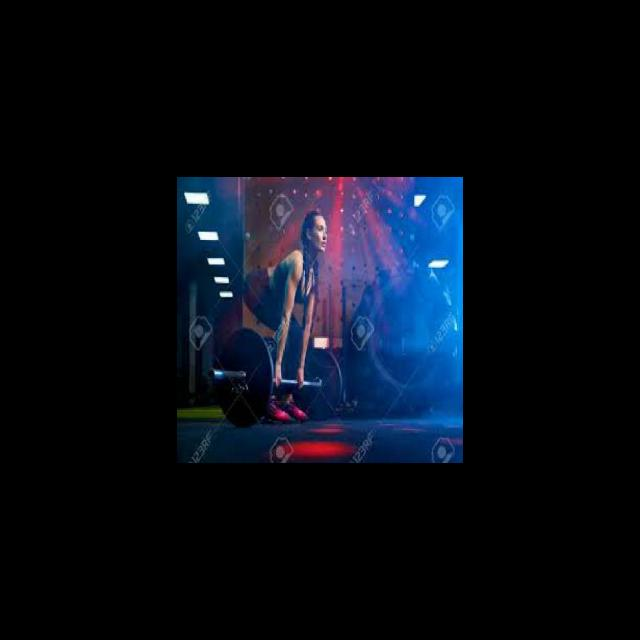barbell: (206, 326, 275, 429)
